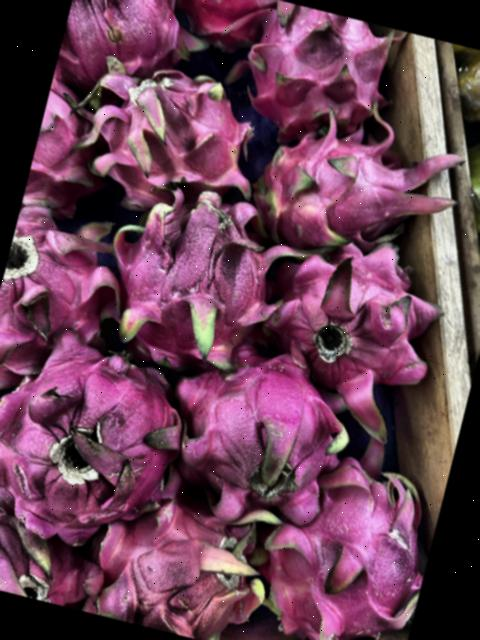buah-naga-matang: (0, 317, 202, 558), (90, 171, 302, 377), (249, 437, 449, 640), (252, 222, 456, 421), (158, 333, 352, 532), (70, 50, 278, 228), (70, 477, 292, 640), (251, 102, 462, 266), (0, 198, 138, 403), (225, 0, 397, 136), (56, 0, 224, 100), (21, 76, 128, 224), (0, 481, 107, 610)
